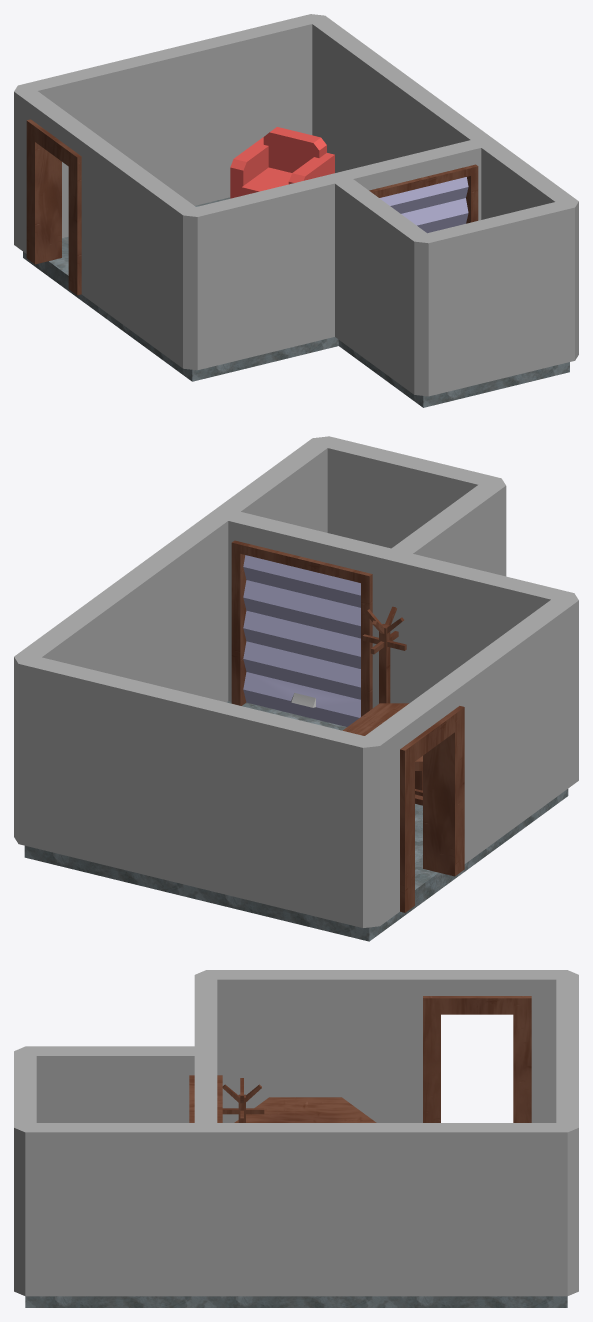
Rendered from Level_1_4.fbx.
3 views of the same model, one above another, from view 1: azimuth 30°, elevation 25°; view 2: azimuth 150°, elevation 25°; view 3: azimuth 270°, elevation 25° (orthographic). The views are drawn at different scales.
Parts seen in each view (by area): view 1: mergedBlocks; view 2: mergedBlocks; view 3: mergedBlocks.
Boxes of the visible parts, x1=… form: mergedBlocks: x1=14, y1=14, x2=578, y2=407; mergedBlocks: x1=14, y1=436, x2=578, y2=941; mergedBlocks: x1=14, y1=970, x2=578, y2=1307.
Size of the model in its own units: 43.1 by 22 by 62.5.
Materials: 6 (3 with a texture image).
